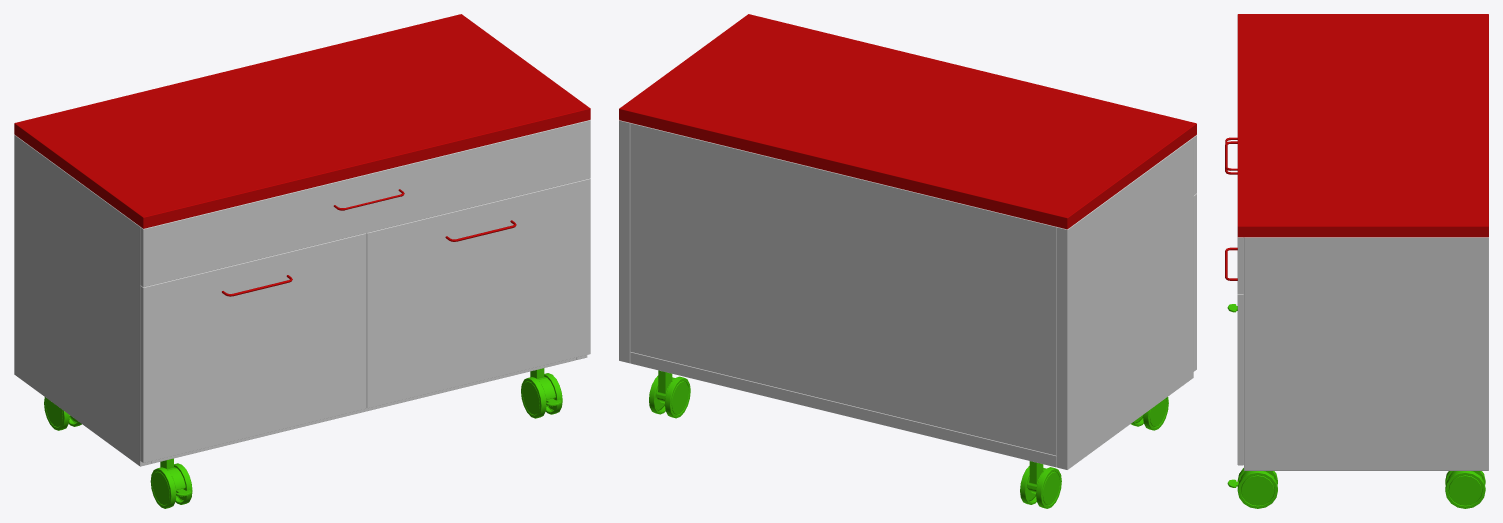
File: UnderBench02b.fbx
3 renders of one model, left to right at view 1: azimuth 30°, elevation 25°; view 2: azimuth 150°, elevation 25°; view 3: azimuth 270°, elevation 25°, orthographic. The views are drawn at different scales.
Visible parts, largest first — view 1: UnderBench02b, Drawer02, Drawer03, Drawer01; view 2: UnderBench02b, Drawer02; view 3: UnderBench02b, Drawer03, Drawer01.
Part boxes in pixels (x1,y1,x2,y2): UnderBench02b: (14, 14, 590, 508); Drawer02: (140, 233, 366, 462); Drawer03: (366, 178, 590, 408); Drawer01: (140, 120, 590, 287); UnderBench02b: (619, 14, 1196, 508); Drawer02: (1193, 194, 1196, 371); UnderBench02b: (1227, 14, 1488, 508); Drawer03: (1225, 247, 1243, 465); Drawer01: (1225, 137, 1243, 294).
Bounding box in the file's own units: 100 × 52.5 × 65.
